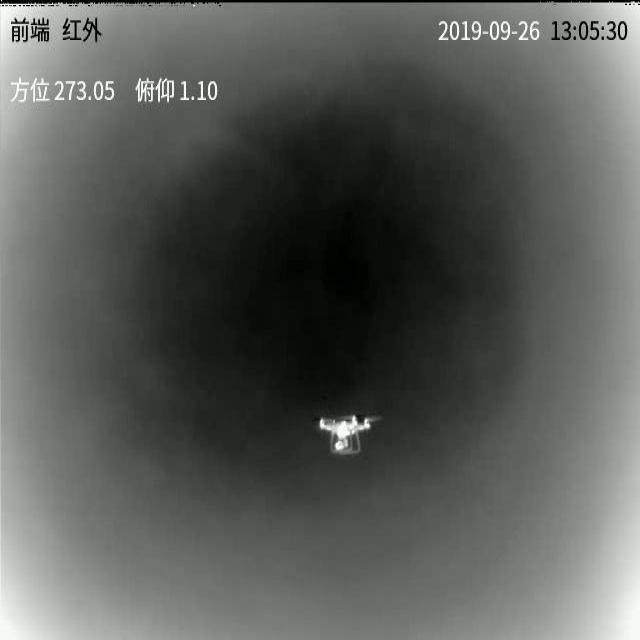drone: (317, 412, 382, 460)
